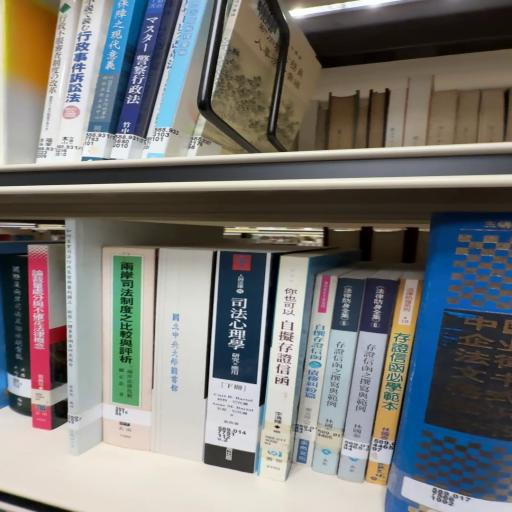backward: (155, 250, 220, 466)
book: (386, 210, 512, 512), (260, 252, 362, 483), (204, 252, 273, 479)
